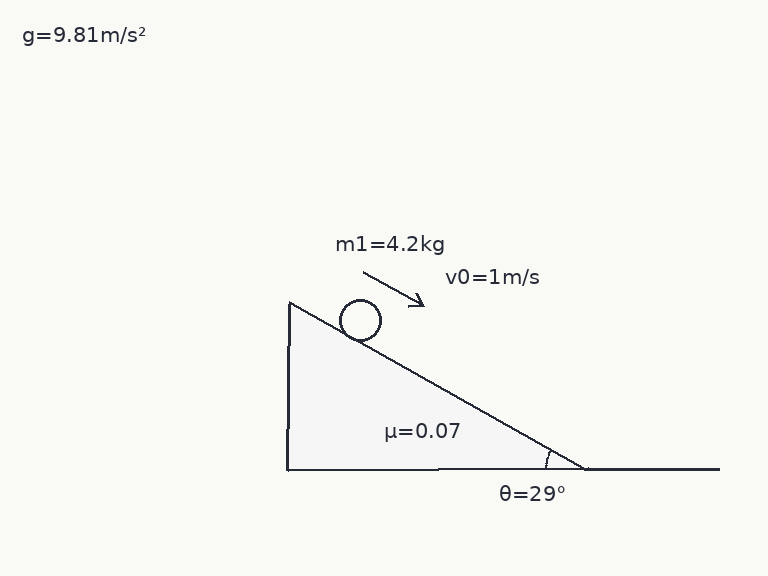ball: (337, 297, 383, 343)
ramp: (286, 302, 588, 471)
